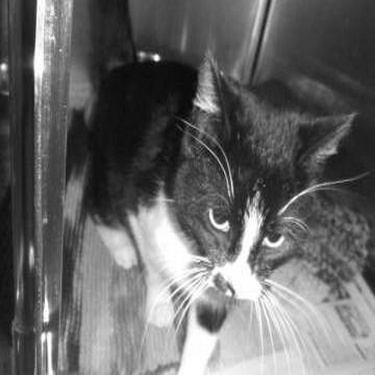cat: (64, 25, 365, 365)
